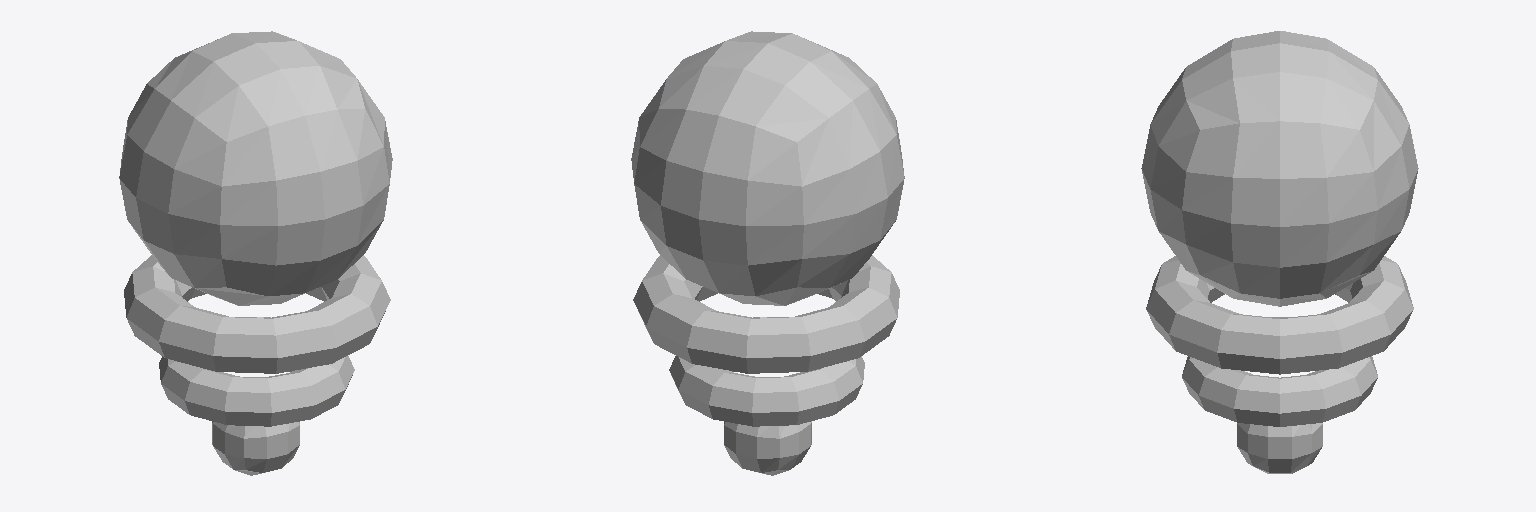
File: Pivot.obj
3 views of the same model, side by side, from view 1: azimuth 30°, elevation 25°; view 2: azimuth 150°, elevation 25°; view 3: azimuth 270°, elevation 25° (orthographic).
Parts seen in each view (by area): view 1: Roundcube.001; view 2: Roundcube.001; view 3: Roundcube.001.
Part boxes in pixels (x1,y1,x2,y2): Roundcube.001: (119,31,392,475); Roundcube.001: (631,31,904,475); Roundcube.001: (1141,31,1418,473).
Bounding box in the file's own units: 1.19 × 2.02 × 1.19.